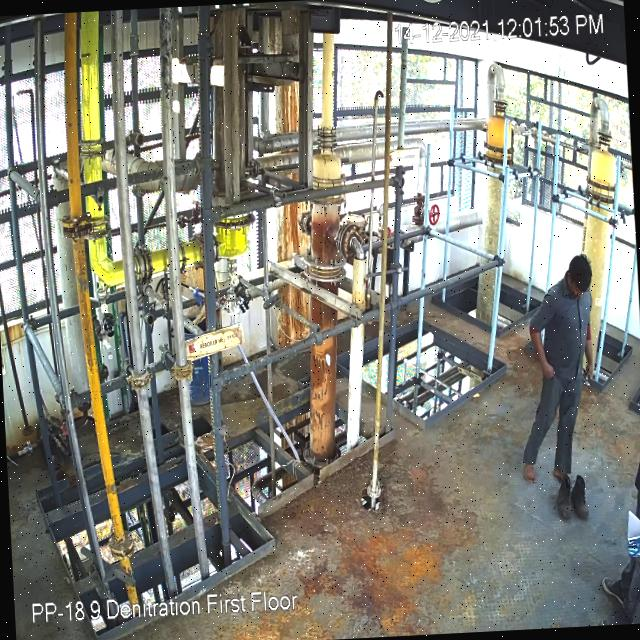boots: (568, 471, 594, 528), (551, 472, 574, 520)
no-boots: (518, 454, 538, 484)
